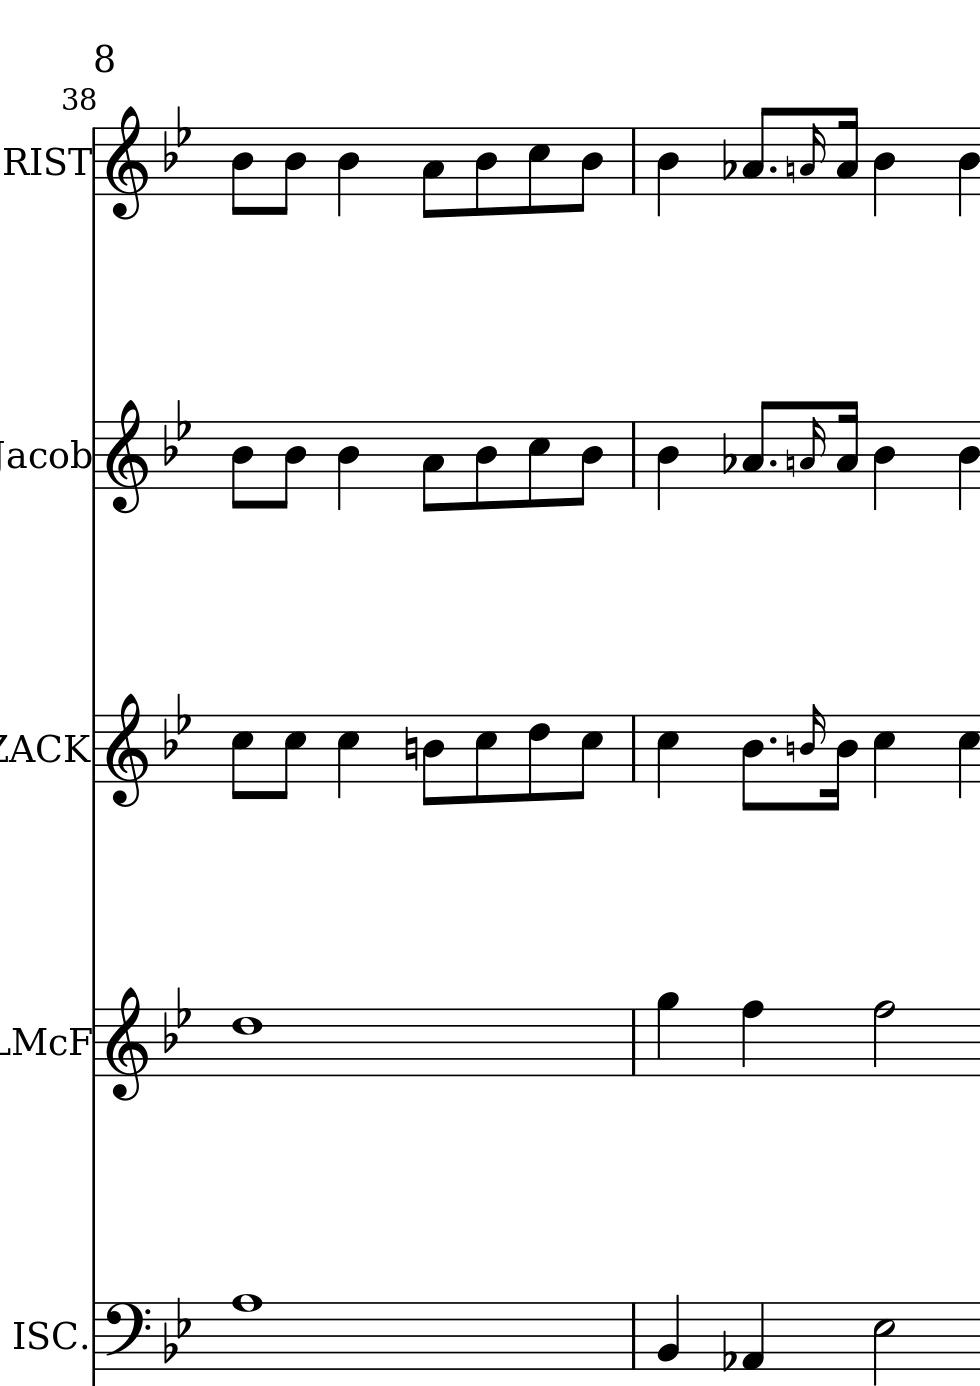16_3: (834, 397, 859, 490), (834, 104, 859, 196)
16_4: (820, 713, 857, 813)
1_6: (231, 1007, 263, 1078)
1_8: (230, 1292, 262, 1373)
2_5: (871, 1300, 896, 1385)
2_8: (871, 998, 895, 1078)
3: (62, 86, 78, 112)
4_1: (741, 1301, 766, 1372)
4_2: (657, 1293, 681, 1372)
4_4: (953, 125, 980, 220), (953, 419, 980, 513), (871, 125, 896, 220), (871, 419, 896, 513), (334, 420, 360, 513), (655, 419, 680, 513), (335, 126, 360, 220), (655, 125, 680, 218)
4_5: (654, 712, 680, 801), (871, 712, 896, 801), (953, 713, 979, 802), (335, 713, 360, 801)
4_8: (739, 999, 765, 1078)
4_9: (655, 992, 680, 1077)
8: (92, 42, 115, 74), (78, 86, 97, 113)
8_3: (739, 398, 774, 491), (739, 105, 774, 197), (419, 418, 445, 514), (419, 124, 445, 220)
8_4: (272, 126, 307, 218), (272, 420, 307, 512), (572, 125, 603, 214), (572, 419, 603, 507), (228, 125, 255, 218), (472, 126, 498, 220), (472, 419, 498, 512), (739, 712, 763, 814), (229, 419, 255, 512), (421, 714, 445, 808)
8_5: (273, 713, 307, 802), (571, 712, 603, 800), (524, 125, 550, 216), (524, 419, 550, 510), (473, 712, 498, 806), (229, 712, 253, 802)
8_6: (525, 712, 552, 804)
Appoggiature: (799, 702, 826, 771)
B_F: (161, 398, 192, 464), (161, 985, 192, 1052), (161, 1297, 192, 1364), (161, 104, 191, 171), (162, 692, 191, 758)
Fclef: (103, 1300, 151, 1372)
Flat: (719, 1328, 736, 1375), (719, 429, 736, 476), (719, 137, 736, 181)
Gclef: (104, 986, 150, 1104), (104, 694, 148, 812), (104, 398, 148, 515), (104, 104, 148, 220)
Natural: (402, 725, 418, 773), (784, 733, 797, 766), (784, 154, 797, 186), (784, 448, 797, 479)
Single_barline: (624, 1008, 643, 1076), (625, 422, 642, 488), (625, 716, 642, 780), (625, 1304, 642, 1369), (626, 128, 642, 195), (88, 1008, 103, 1078), (87, 127, 102, 196), (88, 421, 103, 490), (88, 715, 103, 783), (87, 1302, 102, 1369)
dot: (766, 163, 777, 175), (766, 457, 777, 469), (766, 735, 778, 745)
